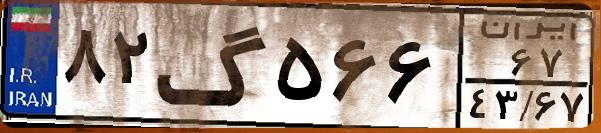2: (110, 28, 156, 98)
3: (495, 70, 520, 125)
4: (470, 70, 495, 125)
5: (270, 28, 330, 110)
6: (385, 28, 445, 110), (330, 28, 385, 110), (508, 27, 537, 80), (535, 70, 560, 125)
7: (560, 70, 590, 125), (537, 27, 568, 80)
8: (57, 26, 110, 100)
گ: (156, 12, 270, 120)
